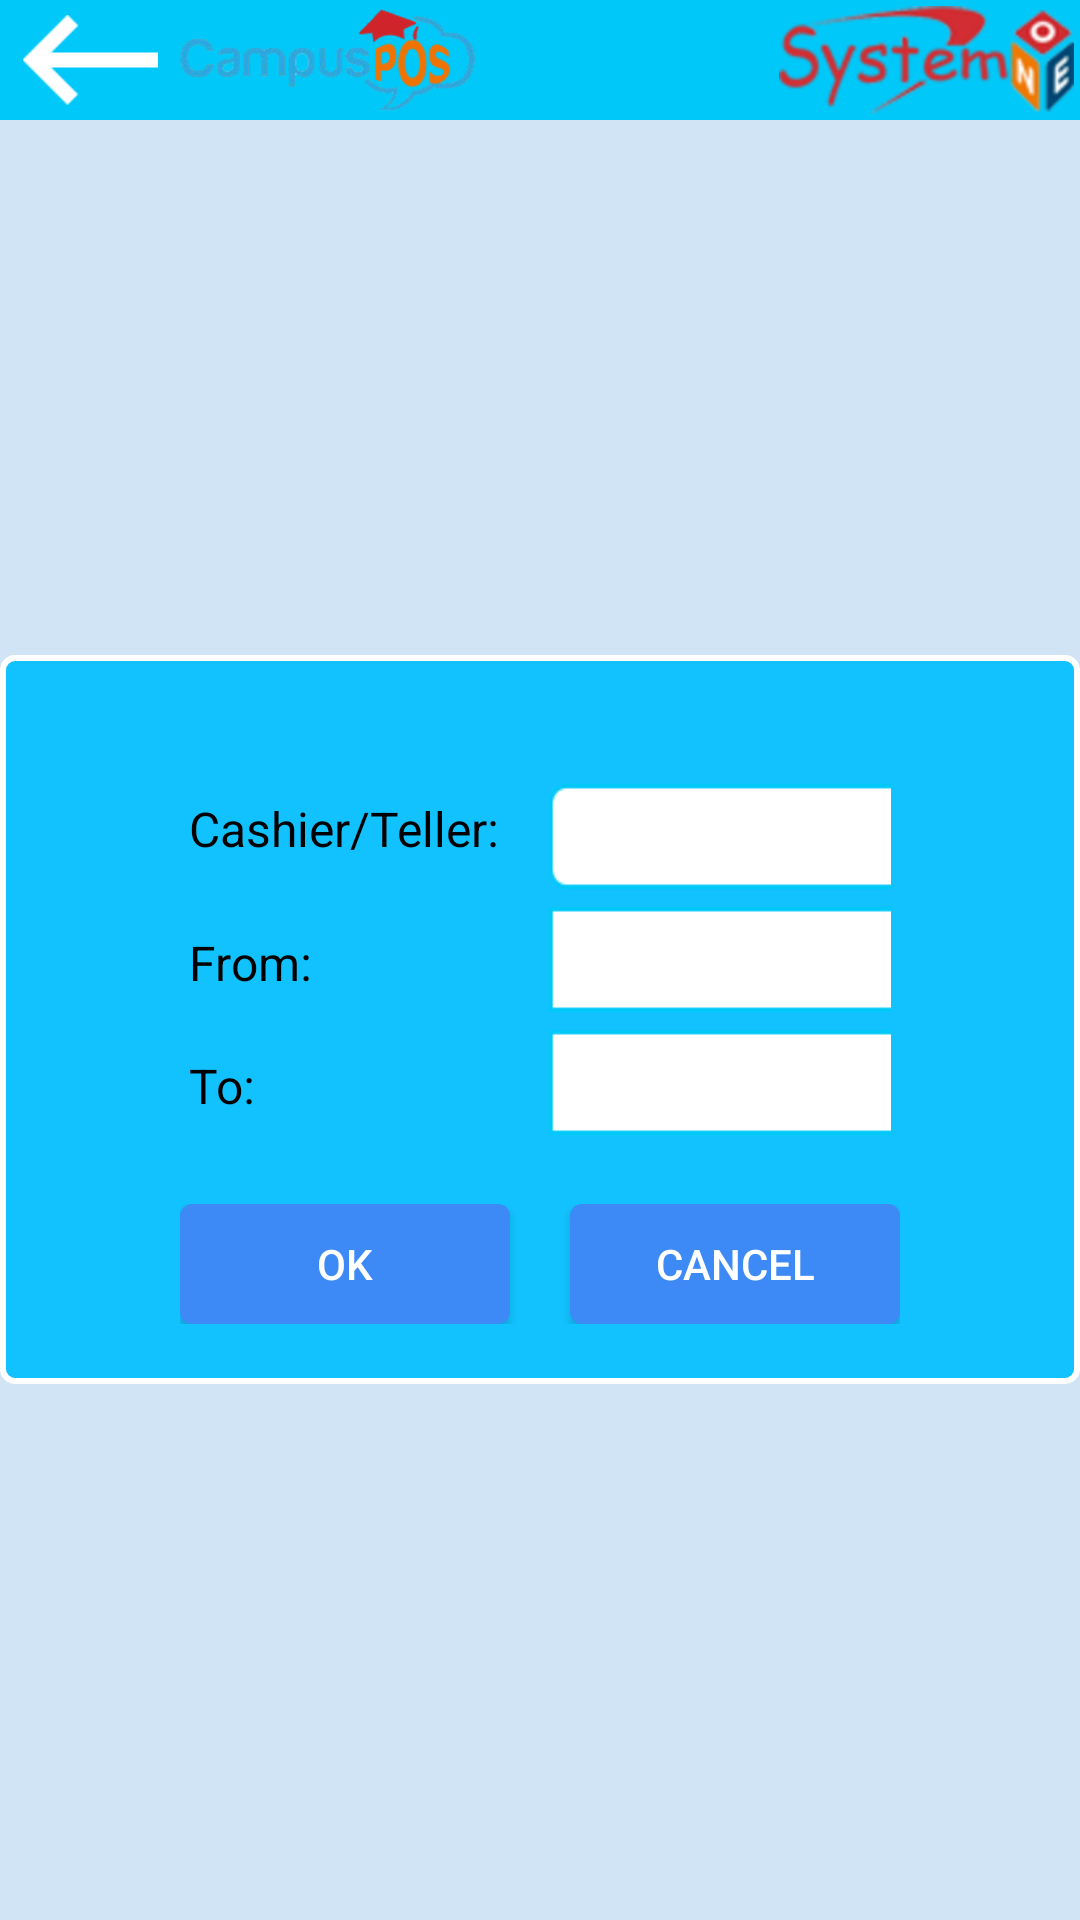

Locate icon controls on the screen. Image size 1080w x 1920h, boxes as (x1, y1, x2, y2).
back: (23, 15, 158, 105)
